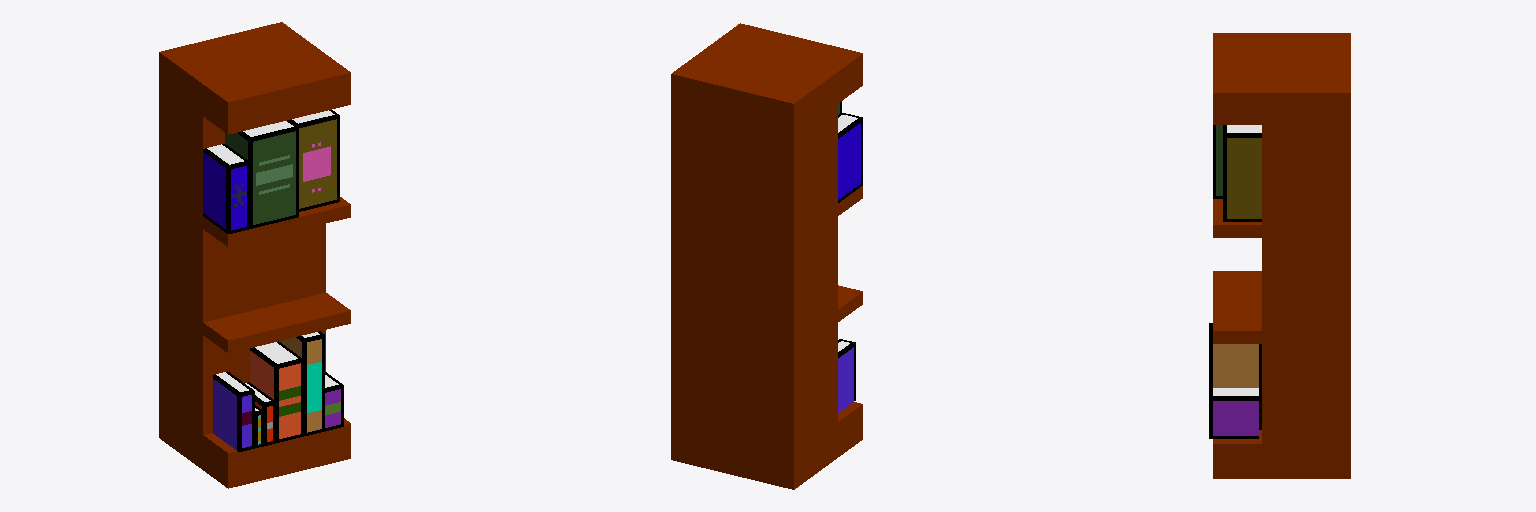
3 views of the same model, side by side, from view 1: azimuth 30°, elevation 25°; view 2: azimuth 150°, elevation 25°; view 3: azimuth 270°, elevation 25° (orthographic).
Visible parts, largest first — view 1: object 1; view 2: object 1; view 3: object 1.
Part boxes in pixels (left/top/right/bottom): object 1: left=159, top=22, right=350, bottom=488; object 1: left=671, top=23, right=862, bottom=489; object 1: left=1209, top=33, right=1350, bottom=478.
Bounding box in the file's own units: 4 × 12 × 4.
Materials: 1 (1 with a texture image).